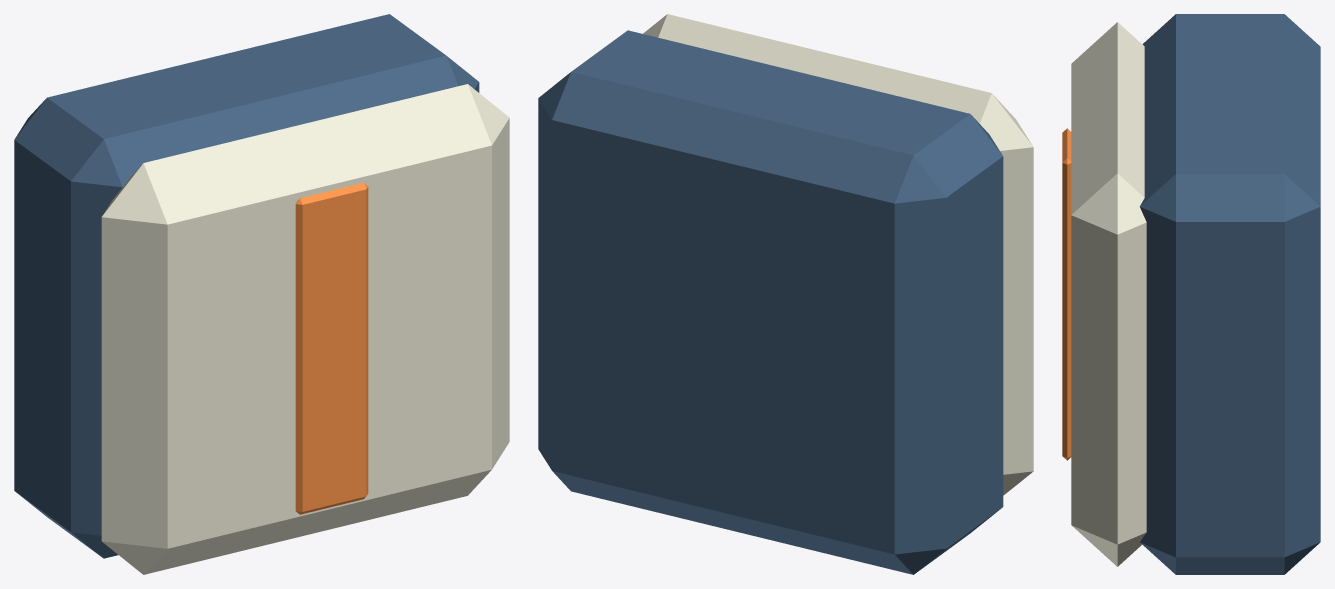
Rendered from armor.glb.
The picture shows the model from 3 angles, left to right: view 1: azimuth 30°, elevation 25°; view 2: azimuth 150°, elevation 25°; view 3: azimuth 270°, elevation 25°; orthographic projection. The views are drawn at different scales.
Parts seen in each view (by area): view 1: Outer armor, Armor structure, Armor stripe; view 2: Armor structure, Outer armor; view 3: Armor structure, Outer armor, Armor stripe.
Boxes of the visible parts, x1,y1,x2,y2 form: Outer armor: (101, 84, 509, 574); Armor structure: (14, 14, 479, 558); Armor stripe: (295, 182, 368, 514); Armor structure: (538, 30, 1003, 574); Outer armor: (643, 14, 1033, 495); Armor structure: (1139, 14, 1320, 574); Outer armor: (1071, 22, 1146, 566); Armor stripe: (1062, 128, 1071, 460).
Size of the model in its own units: 1.12 by 1.1 by 0.6425.
